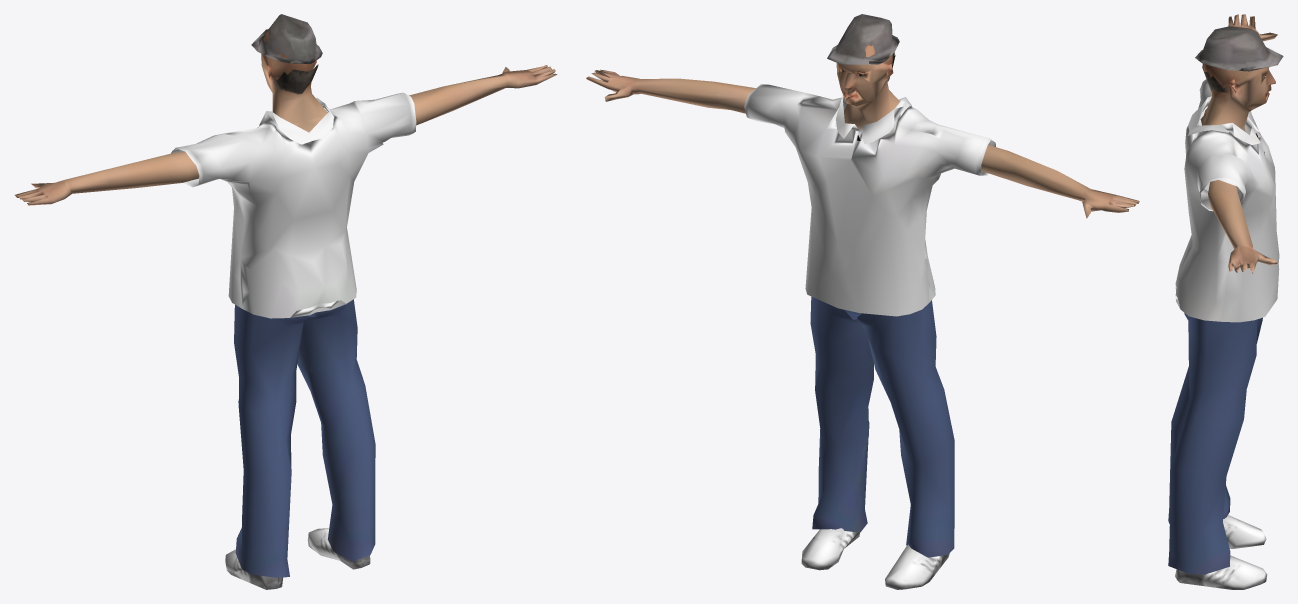
The picture shows the model from 3 angles, left to right: view 1: azimuth 30°, elevation 25°; view 2: azimuth 150°, elevation 25°; view 3: azimuth 270°, elevation 25°; orthographic projection. The views are drawn at different scales.
Parts seen in each view (by area): view 1: mensch; view 2: mensch; view 3: mensch.
Boxes of the visible parts, box(x1,y1,x2,y2) form: mensch: box(14, 14, 557, 589); mensch: box(586, 14, 1139, 589); mensch: box(1168, 14, 1283, 589).
Size of the model in its own units: 1.83 by 1.78 by 0.3478.
1 material, 1 textured.
